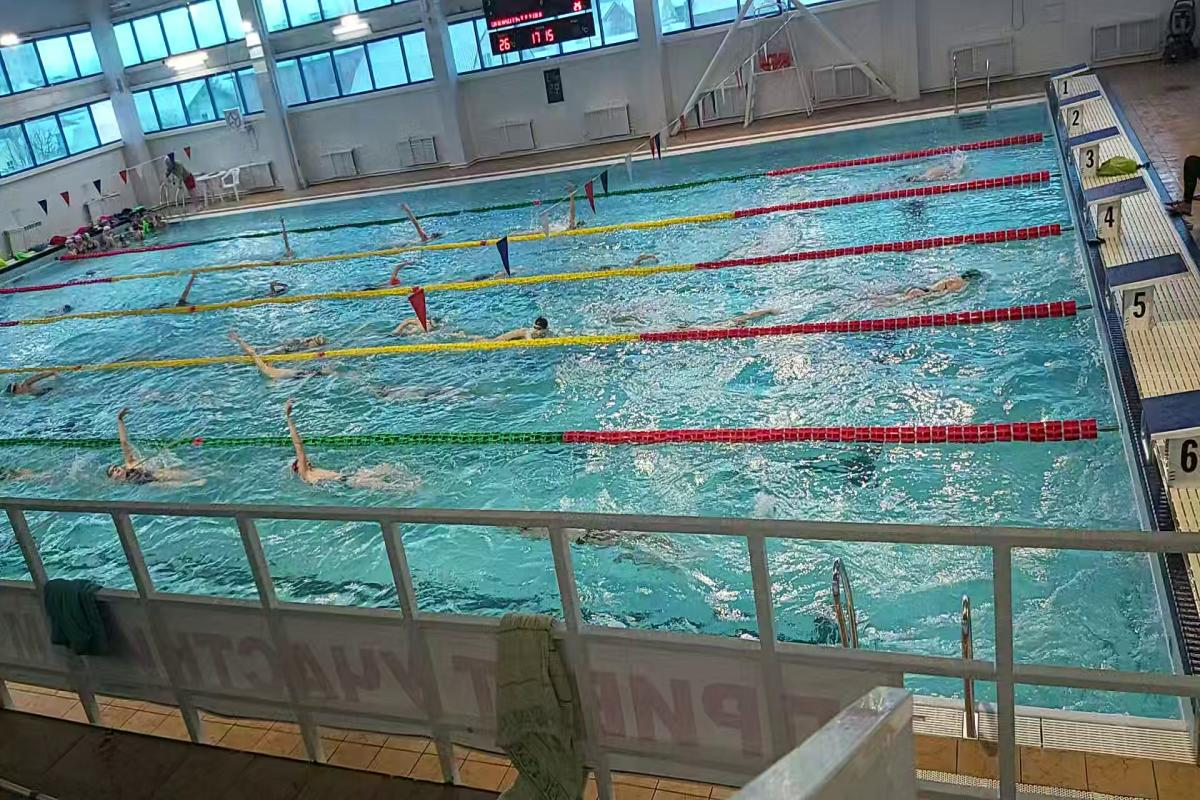swimmer: (278, 443, 426, 497), (860, 256, 986, 311), (518, 506, 663, 553), (230, 350, 344, 386), (95, 447, 200, 485), (474, 310, 550, 340), (395, 205, 452, 245), (7, 372, 74, 399), (250, 330, 334, 351), (556, 188, 592, 234), (388, 310, 441, 339), (249, 277, 315, 299), (364, 262, 424, 286), (164, 276, 212, 304)
